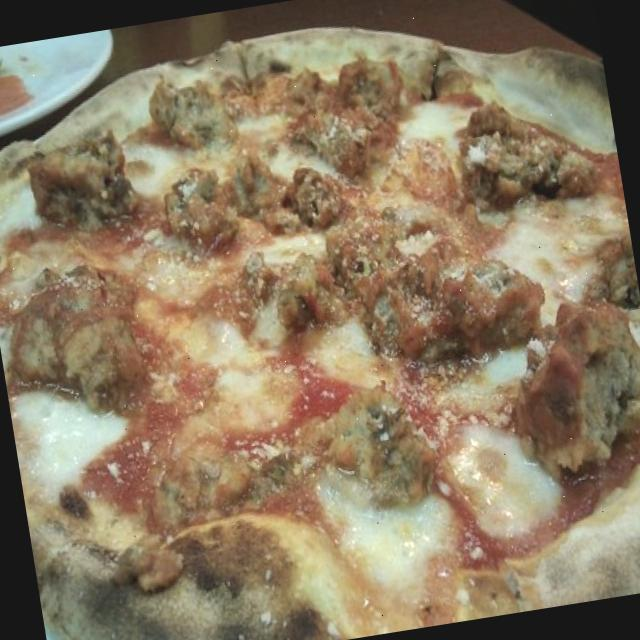pizza: (0, 30, 640, 640)
